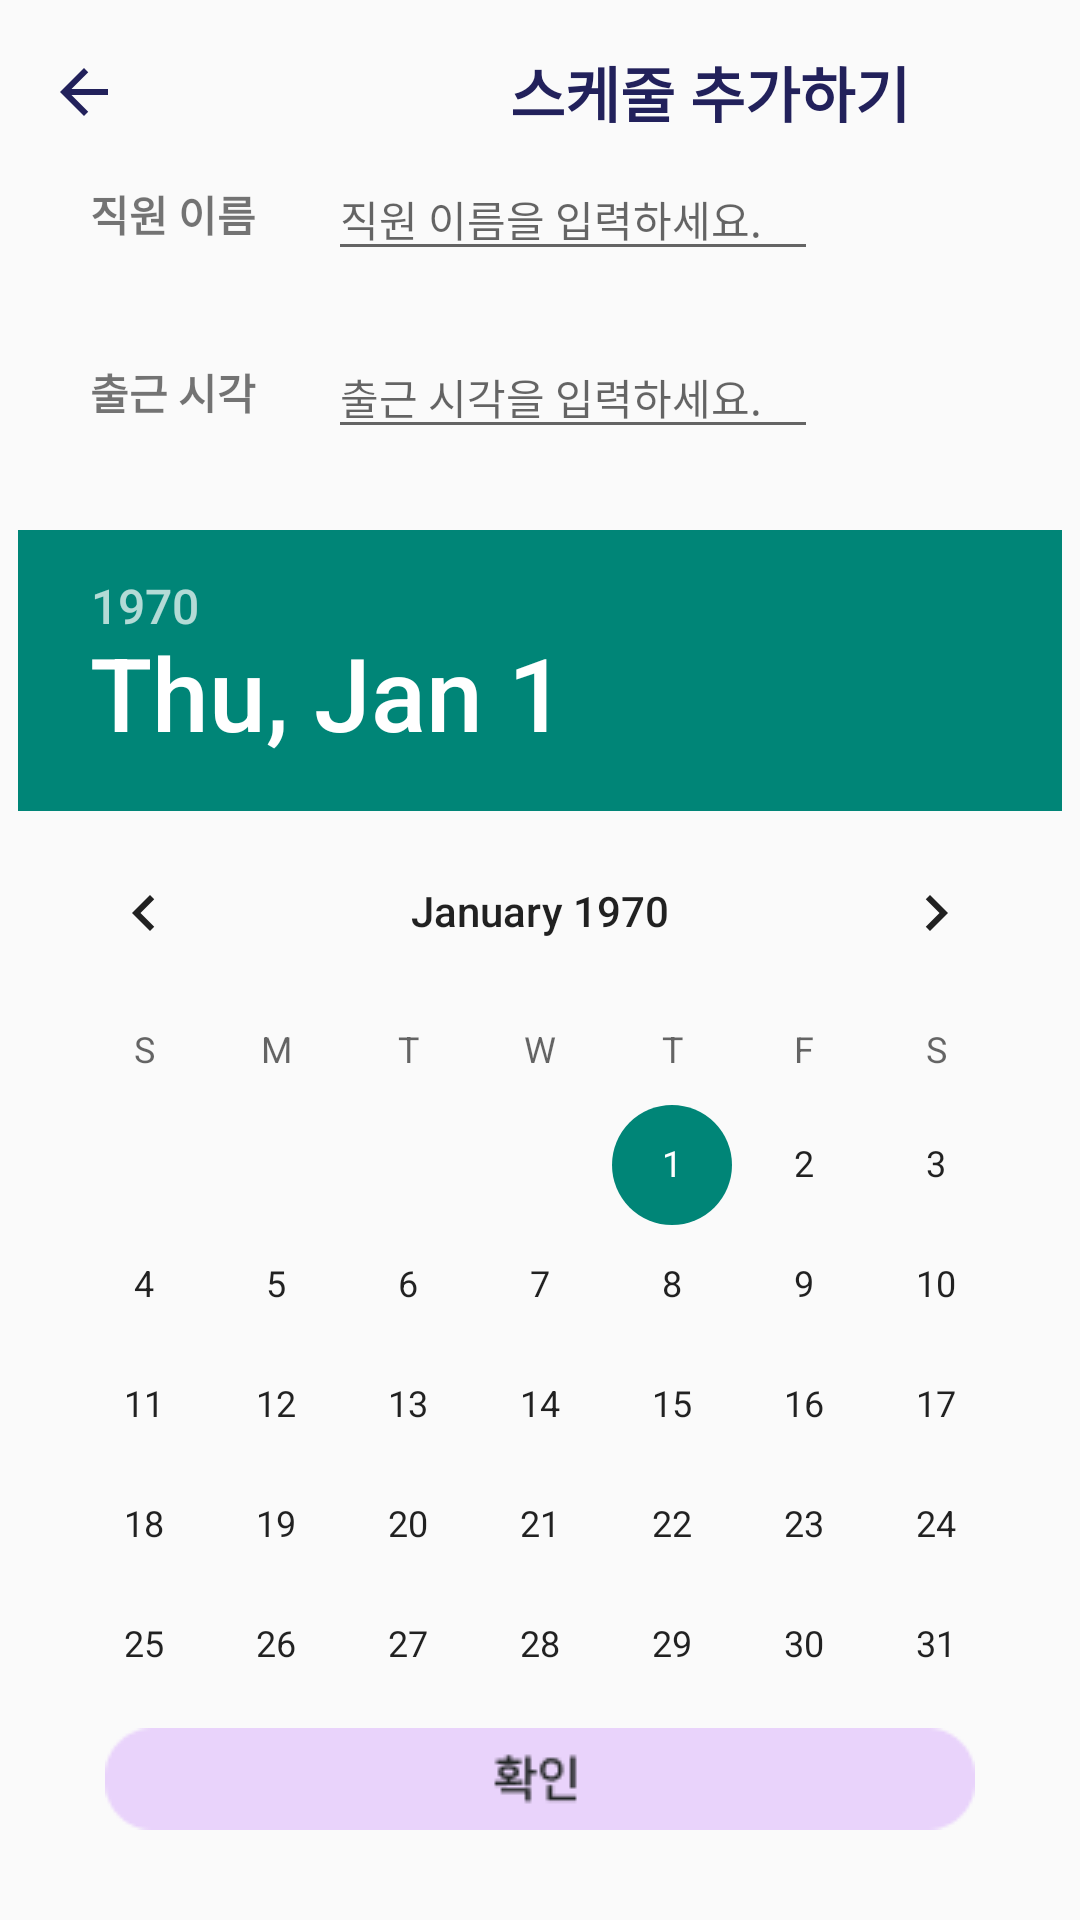

Where icons sit on this 1080 × 1920 app screen, as (x1, y1, x2, y2):
back: (60, 68, 108, 116)
